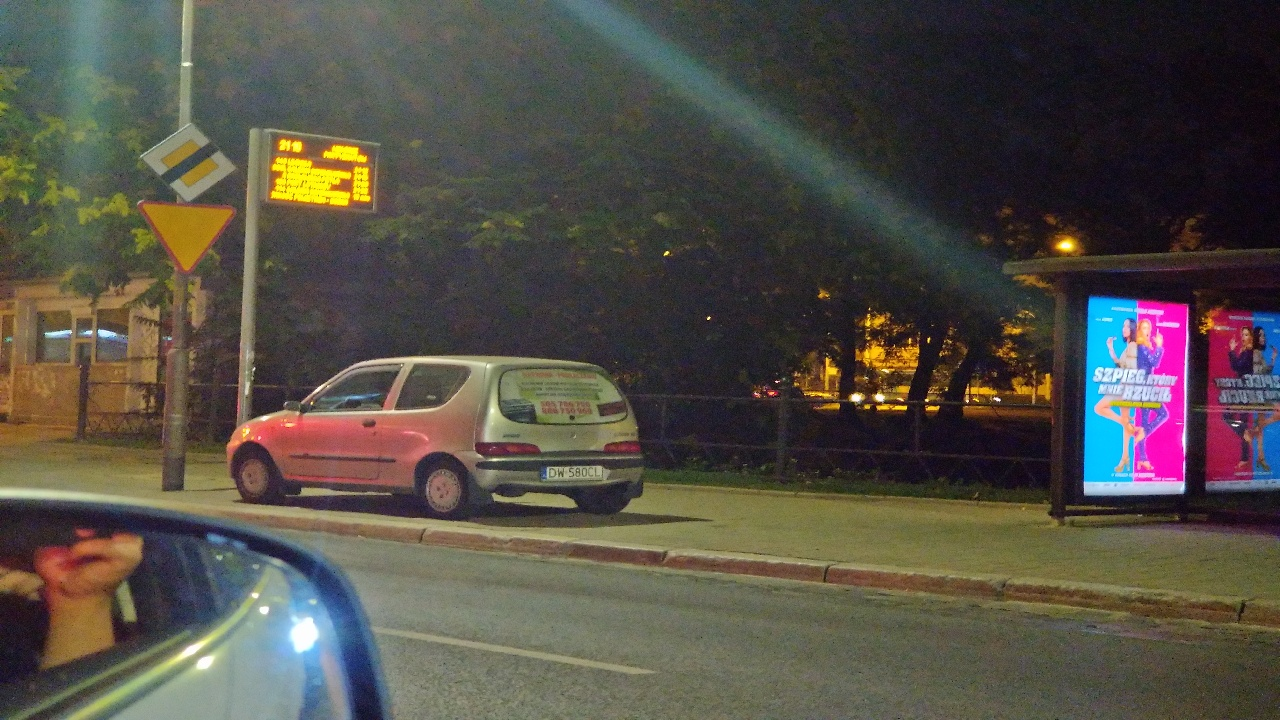A7: (138, 201, 237, 277)
D2: (141, 124, 237, 204)
